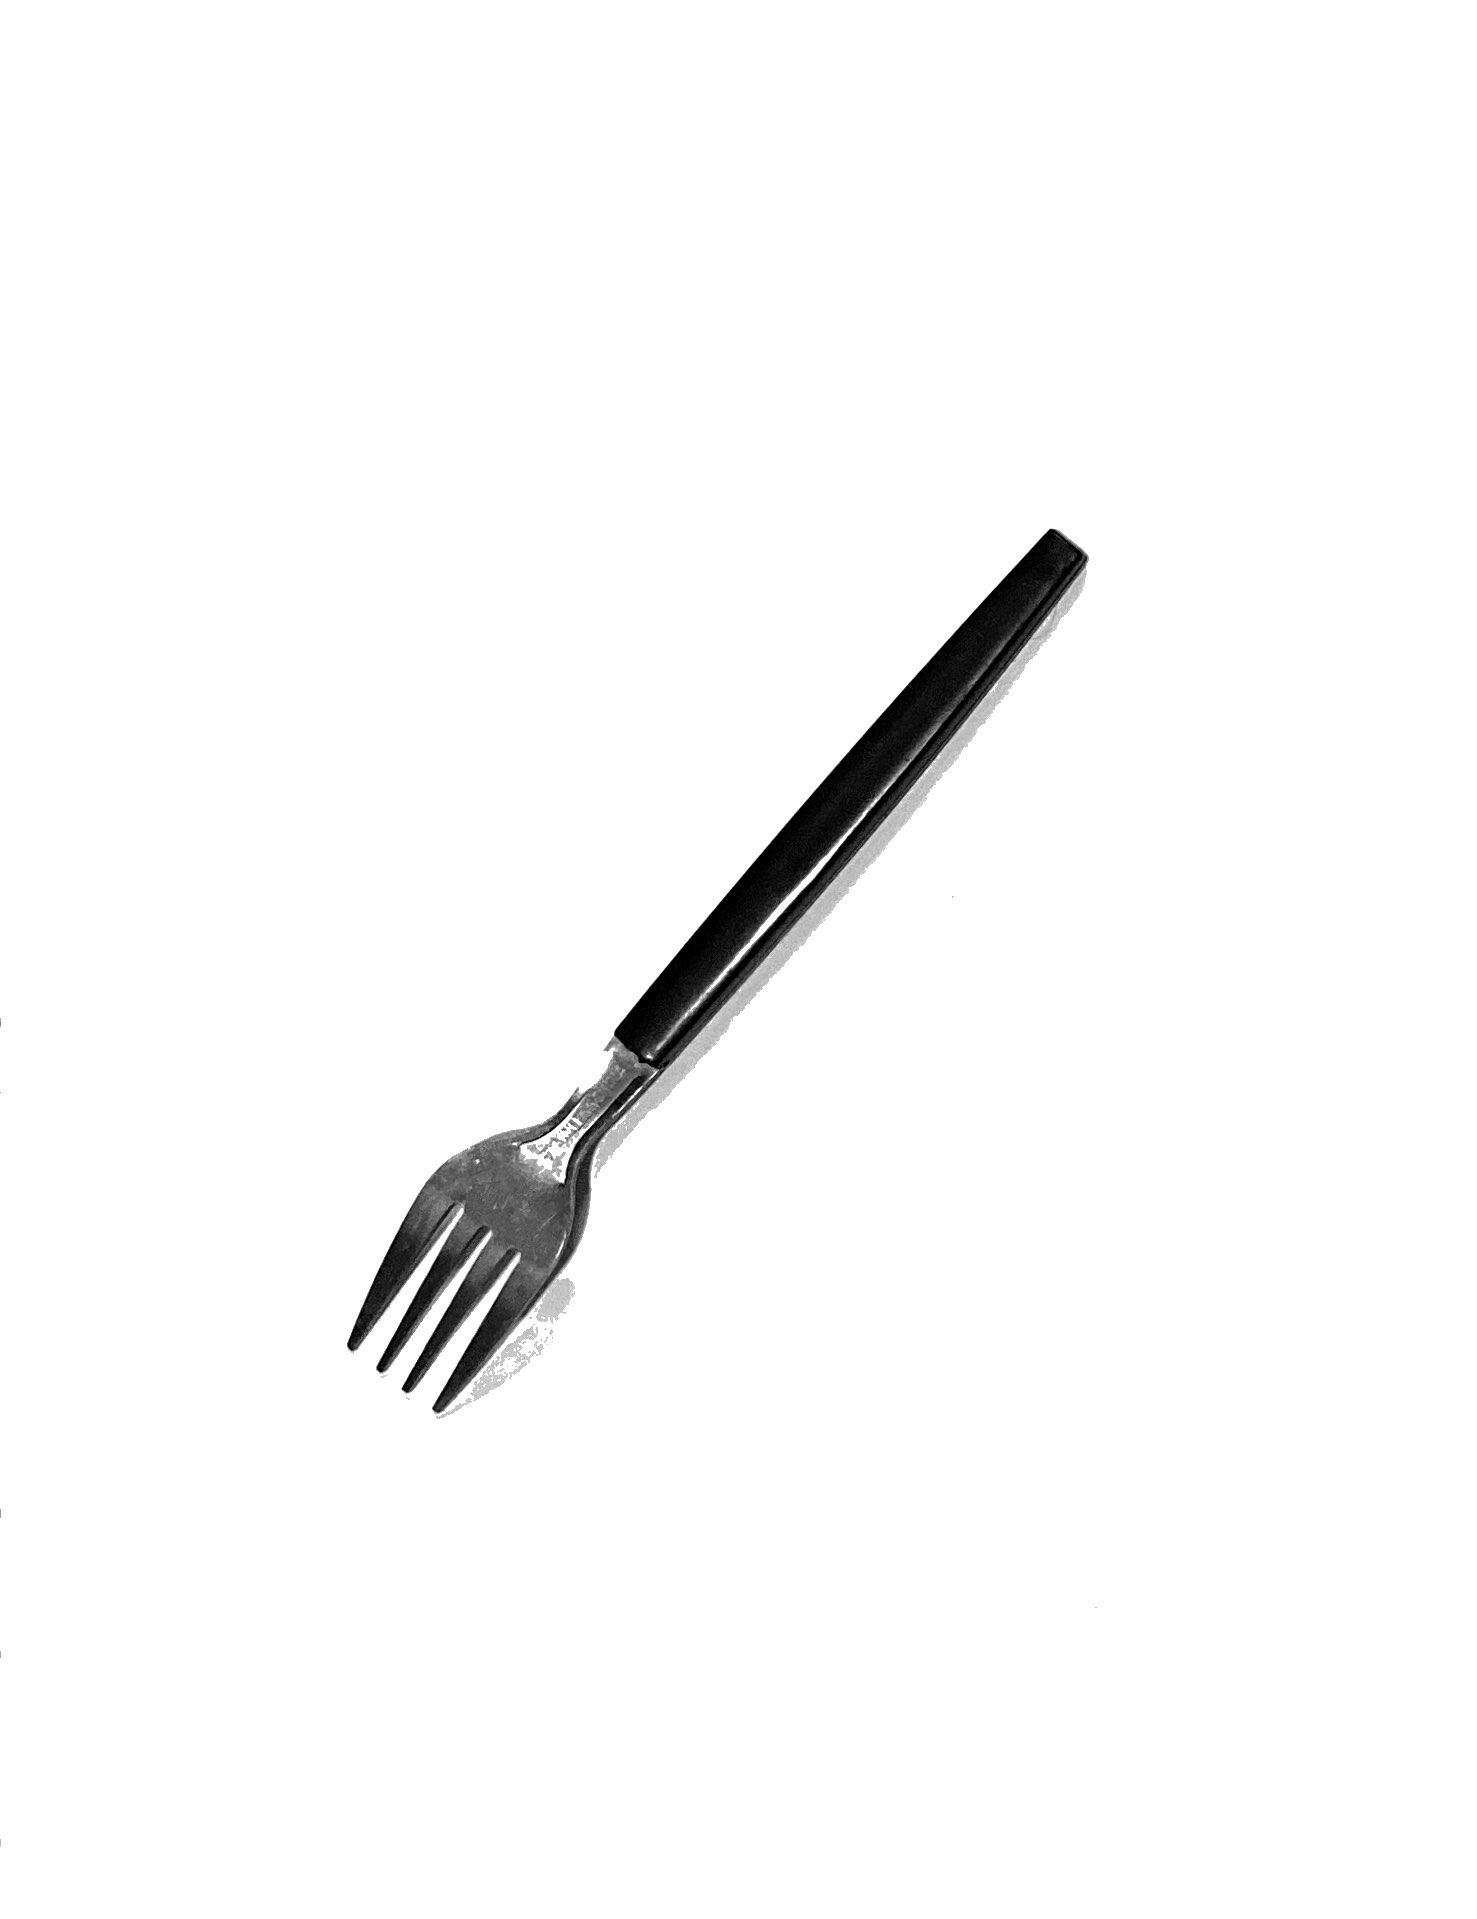Fork: (228, 458, 1328, 1452)
